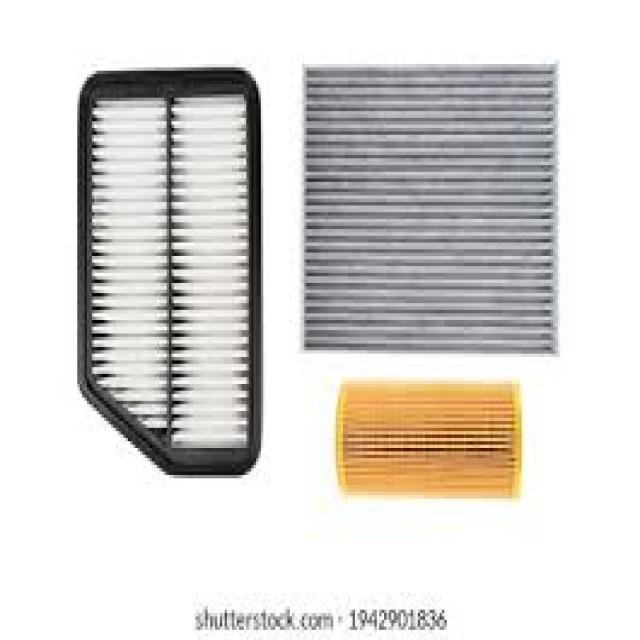air_filter: (299, 59, 564, 360), (74, 72, 262, 484)
oil_filter: (334, 374, 524, 510)
